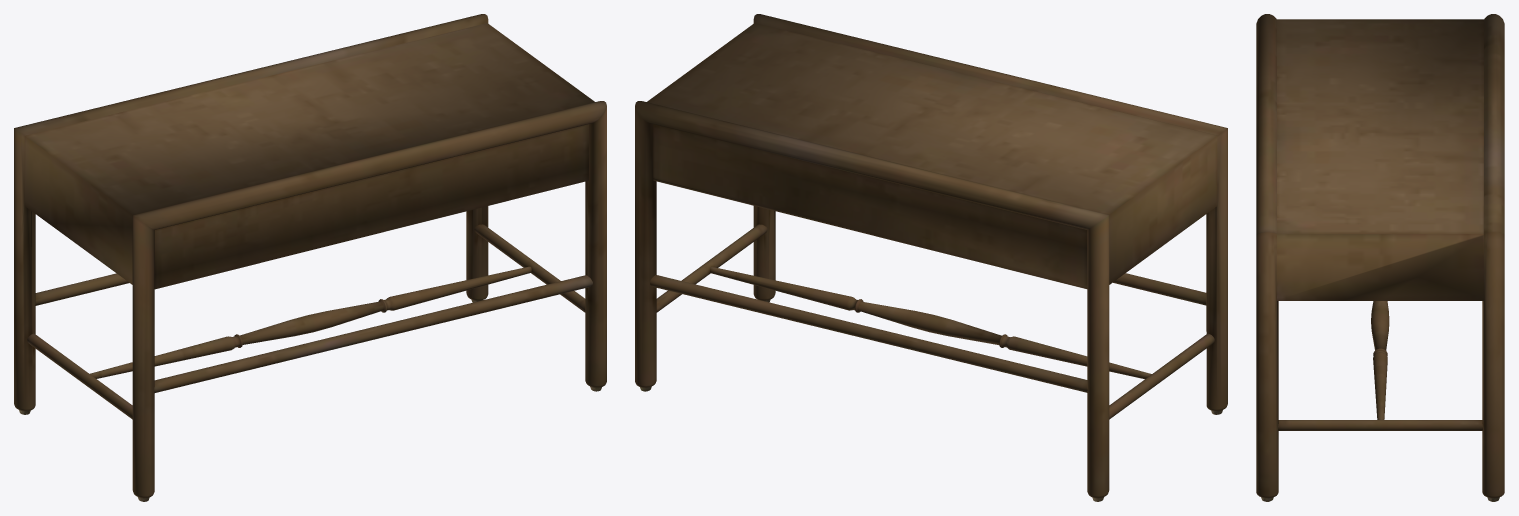
Rendered from small_wooden_table_01.lite.glb.
3 renders of one model, left to right at view 1: azimuth 30°, elevation 25°; view 2: azimuth 150°, elevation 25°; view 3: azimuth 270°, elevation 25°, orthographic. The views are drawn at different scales.
Parts seen in each view (by area): view 1: small_wooden_table_01; view 2: small_wooden_table_01; view 3: small_wooden_table_01.
Boxes of the visible parts, bbox=[...] form: small_wooden_table_01: bbox=[14, 14, 606, 501]; small_wooden_table_01: bbox=[635, 14, 1227, 501]; small_wooden_table_01: bbox=[1256, 14, 1504, 501].
Bounding box in the file's own units: 0.9162 × 0.5331 × 0.4399.
Materials: 1 (1 with a texture image).
